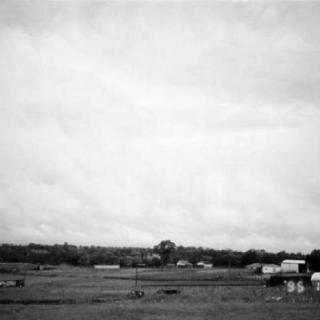Stratus: (0, 0, 320, 243)
